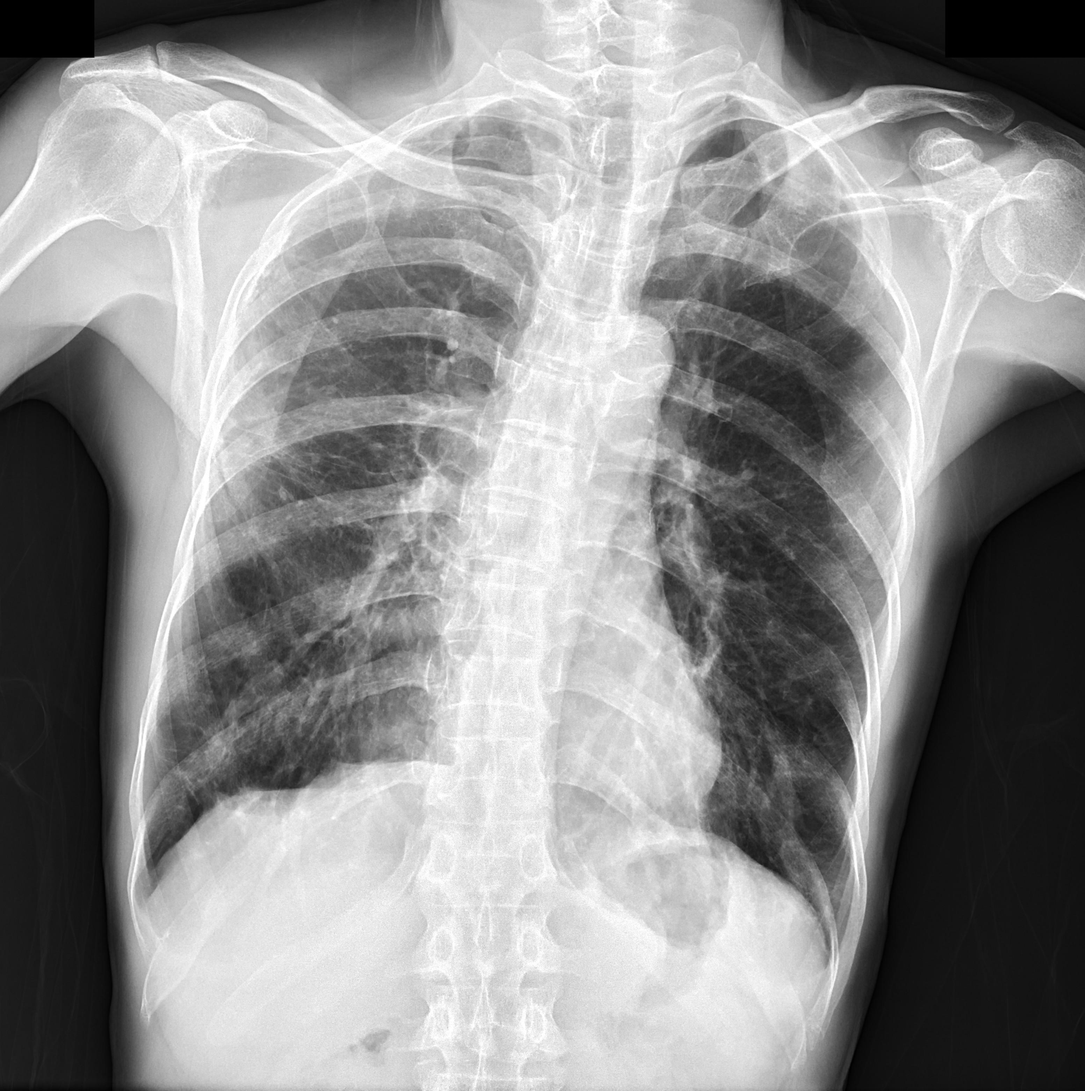Pleural thickening: (195, 780, 267, 822), (309, 740, 364, 782)
